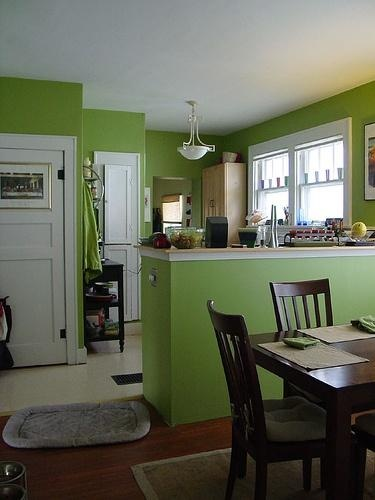chair: (204, 297, 332, 500), (266, 276, 338, 333)
diningtable: (236, 318, 375, 500)
